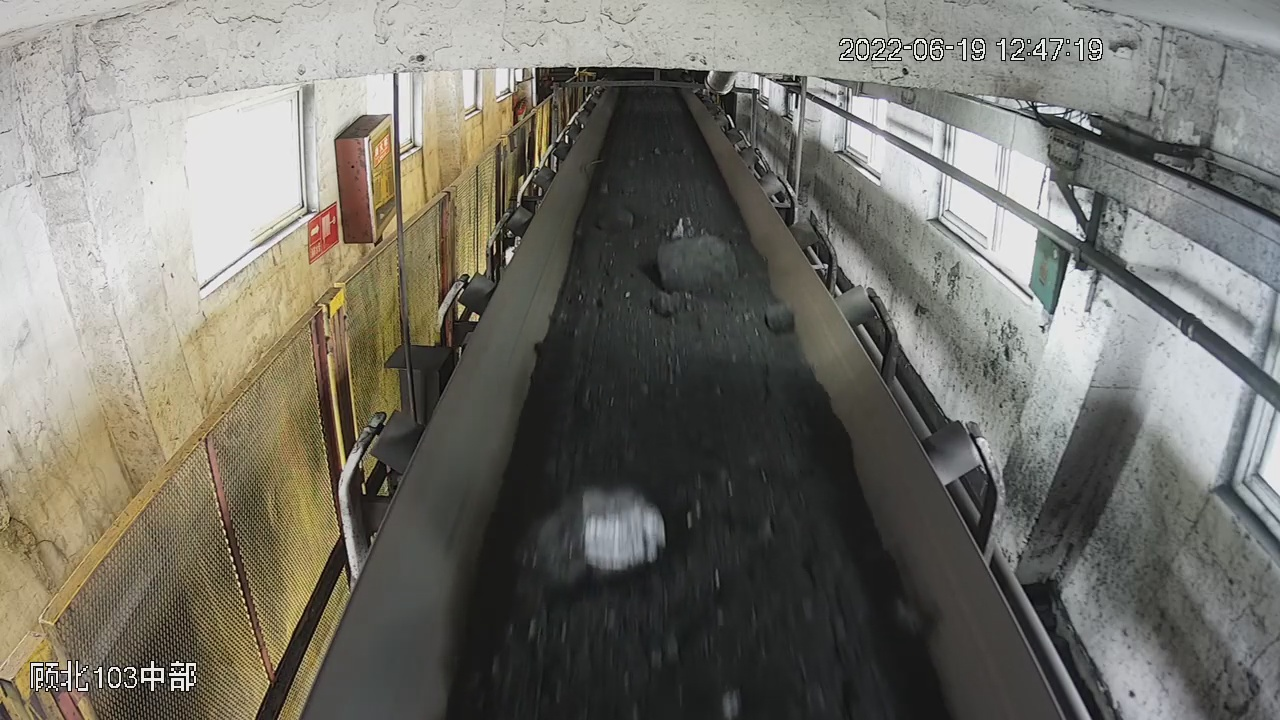gangue: (536, 484, 668, 583), (659, 217, 740, 289), (892, 592, 937, 632), (597, 200, 634, 230), (766, 301, 795, 331), (652, 292, 682, 314)
